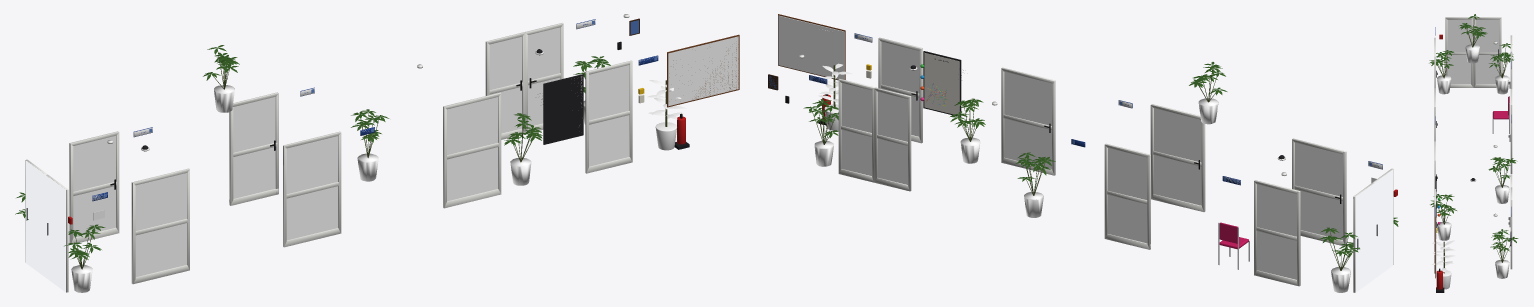
Rendered from corridor_props.glb.
The picture shows the model from 3 angles, left to right: view 1: azimuth 30°, elevation 25°; view 2: azimuth 150°, elevation 25°; view 3: azimuth 270°, elevation 25°; orthographic projection. The views are drawn at different scales.
Parts seen in each view (by area): view 1: DOOR_Visua_g, DOOR_Visua_l, EXIT_daylight, DIR_glass, BOARD_fsi_frame, PLANT_door_n_leaves, PLANT_door_n_pot, PLANT_door_s_pot, PLANT_lobby_cane, DIR_frame, PLANT_lobby_pot; view 2: DOOR_Visua_g, DOOR_Visua_l, EXIT_daylight, DIR_glass, PLANT_door_n_leaves, BOARD_fsi_face, PLANT_door_s_pot, PLANT_lobby_cane, PLANT_door_n_pot, CHAIR_red_seat, SIGN_vs_b, PLANT_lobby_leaves; view 3: DOOR_Visua_g, DOOR_Visua_l, PLANT_door_n_leaves, PLANT_door_s_pot, PLANT_door_n_pot, PLANT_lobby_cane, PLANT_lobby_leaves, CHAIR_red_seat, FIRE_ext, PLANT_lobby_pot, DOOR_Visua_h, CHAIR_red_leg-1-1.
Part boxes in pixels (x1,y1,x2,y2): DOOR_Visua_g: (73, 27, 629, 277); DOOR_Visua_l: (25, 23, 632, 292); EXIT_daylight: (25, 160, 65, 292); DIR_glass: (668, 36, 738, 106); BOARD_fsi_frame: (543, 74, 583, 144); PLANT_door_n_leaves: (15, 45, 610, 261); PLANT_door_n_pot: (71, 100, 585, 292); PLANT_door_s_pot: (214, 85, 531, 185); PLANT_lobby_cane: (75, 51, 667, 269); DIR_frame: (667, 34, 739, 107); PLANT_lobby_pot: (655, 122, 676, 150); DOOR_Visua_g: (841, 41, 1342, 279); DOOR_Visua_l: (838, 37, 1393, 292); EXIT_daylight: (1355, 169, 1393, 292); DIR_glass: (778, 15, 844, 79); PLANT_door_n_leaves: (803, 62, 1398, 257); BOARD_fsi_face: (924, 52, 959, 115); PLANT_door_s_pot: (960, 98, 1350, 292); PLANT_lobby_cane: (812, 65, 1350, 270); PLANT_door_n_pot: (814, 140, 1043, 217); CHAIR_red_seat: (1219, 222, 1248, 249); SIGN_vs_b: (809, 33, 1382, 185); PLANT_lobby_leaves: (818, 63, 852, 103); DOOR_Visua_g: (1447, 19, 1499, 84); DOOR_Visua_l: (1434, 17, 1512, 273); PLANT_door_n_leaves: (1429, 14, 1518, 252); PLANT_door_s_pot: (1437, 44, 1509, 240); PLANT_door_n_pot: (1437, 75, 1509, 278); PLANT_lobby_cane: (1438, 19, 1512, 273); PLANT_lobby_leaves: (1431, 240, 1455, 272); CHAIR_red_seat: (1493, 96, 1509, 119); FIRE_ext: (1436, 34, 1442, 289); PLANT_lobby_pot: (1441, 270, 1451, 289); DOOR_Visua_h: (1436, 49, 1511, 271); CHAIR_red_leg-1-1: (1492, 96, 1509, 133).
Size of the model in its own units: 14.34 by 3.82 by 2.46.
